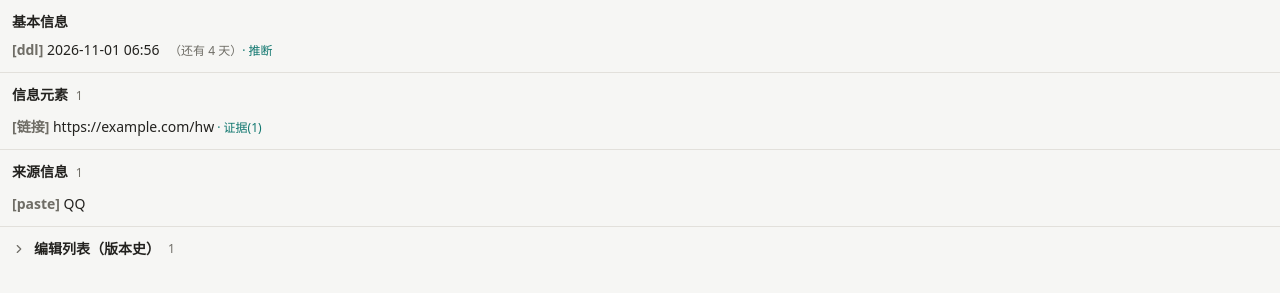
Test case: ItemBody（展开体，D-80/D-82） › ddl 附相对时间（shared relativeDueText）与推断说明
Check: the text "（还有 4 天）" is shown, box x1=169 y1=42 x2=242 y2=59
Check: the text "按往年惯例推算" is not shown
Click the button "· 推断" at (257, 51), box x1=242 y1=43 x2=272 y2=59
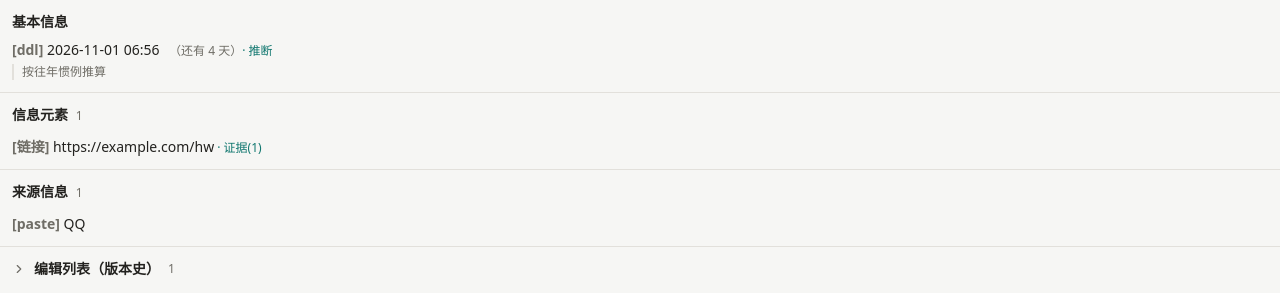
Check: the text "按往年惯例推算" is shown, box x1=12 y1=64 x2=1268 y2=80
Click the button "· 推断" at (257, 51), box x1=242 y1=43 x2=272 y2=59
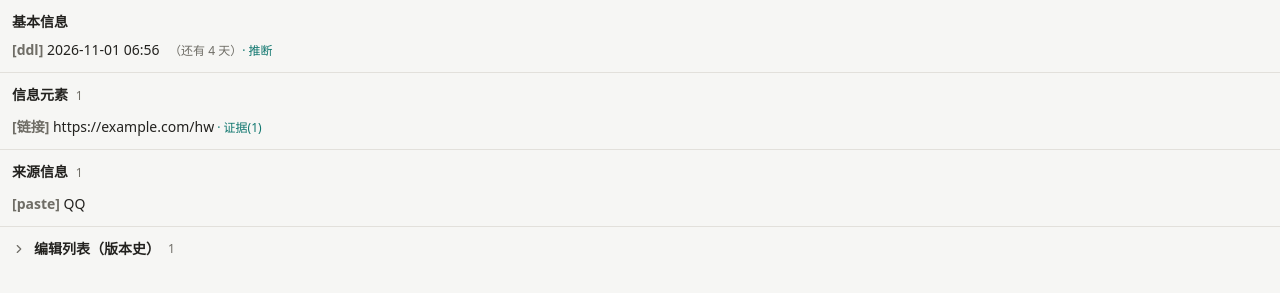
Check: the text "按往年惯例推算" is gone
